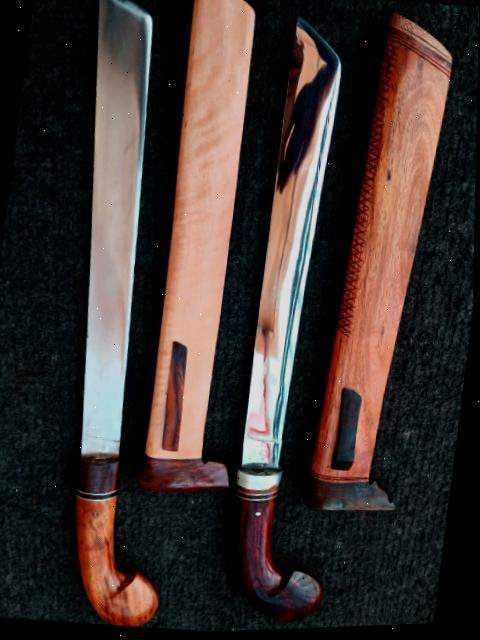long knife: (21, 0, 237, 633), (218, 14, 396, 628)
